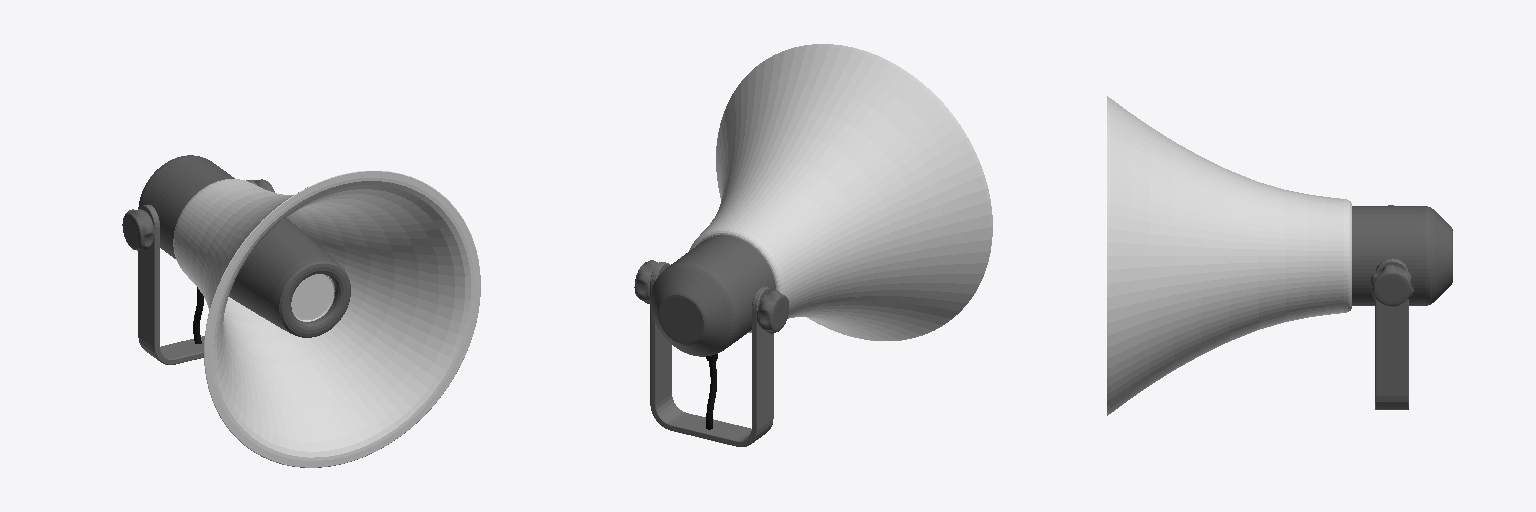
3 renders of one model, left to right at view 1: azimuth 30°, elevation 25°; view 2: azimuth 150°, elevation 25°; view 3: azimuth 270°, elevation 25°, orthographic.
Parts seen in each view (by area): view 1: Loudspeaker_03; view 2: Loudspeaker_03; view 3: Loudspeaker_03.
Boxes of the visible parts, x1=… form: Loudspeaker_03: x1=122, y1=155, x2=480, y2=467; Loudspeaker_03: x1=634, y1=44, x2=992, y2=446; Loudspeaker_03: x1=1107, y1=96, x2=1452, y2=415.
Size of the model in its own units: 1.41 by 1.41 by 1.53.